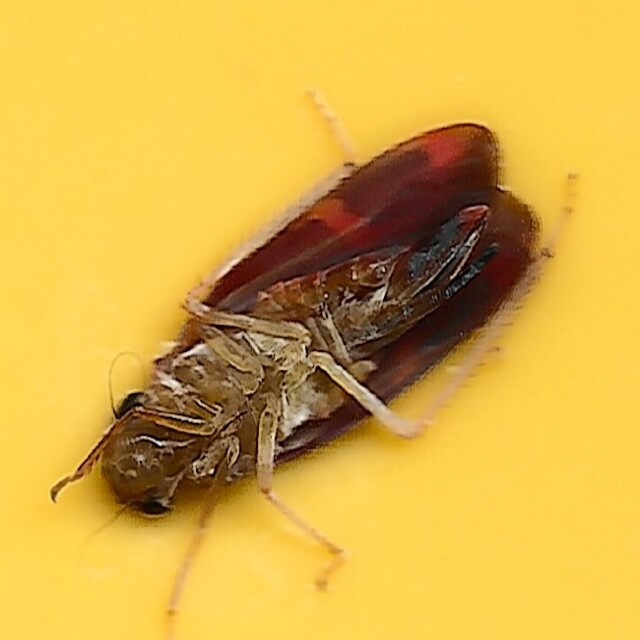Hemiptera: (98, 119, 542, 521)
